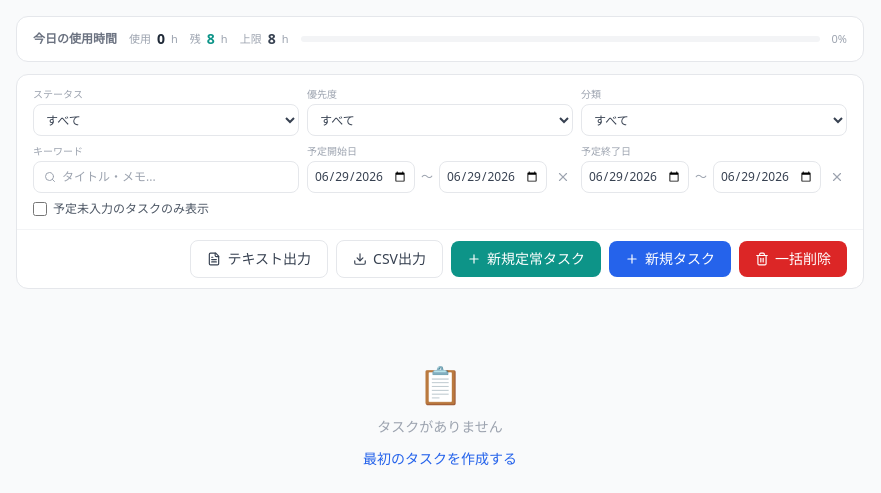
Test: Phase4 TaskListPage bulk selection DOM › TC-CB-272 TD095 TV095 TA019 R017 TaskListPage starts bulk delete with zero selected
This screenshot has width=881, height=493.
Click the button named "予定開始日フィルタをクリア": (563, 177) x1=553 y1=161 x2=573 y2=193
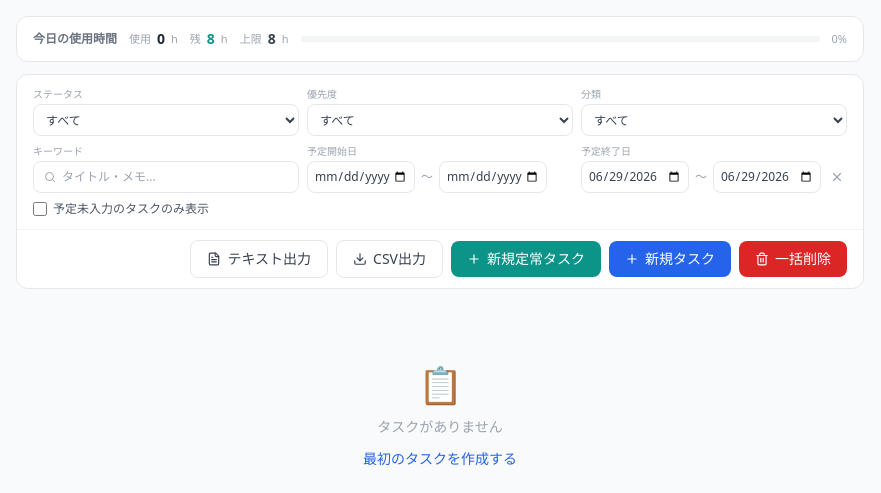
Click the button named "予定終了日フィルタをクリア": (837, 177) x1=827 y1=161 x2=847 y2=193
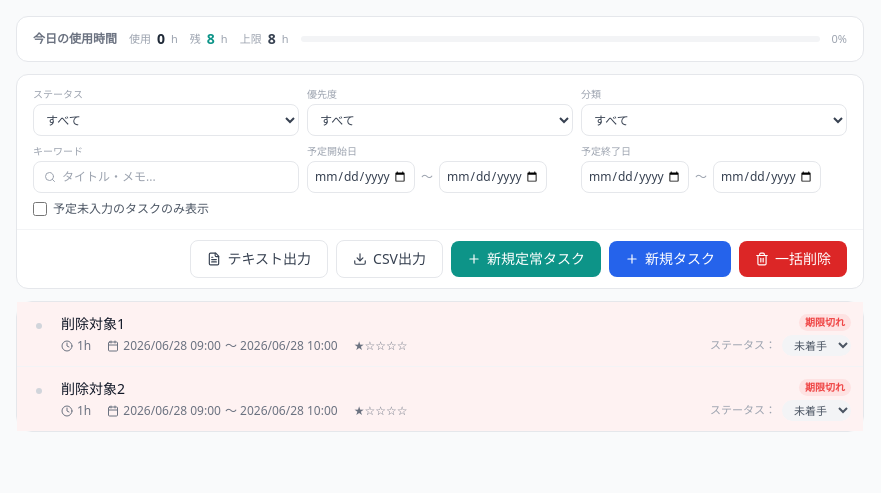
Click the button "一括削除": (793, 259) x1=739 y1=241 x2=847 y2=277
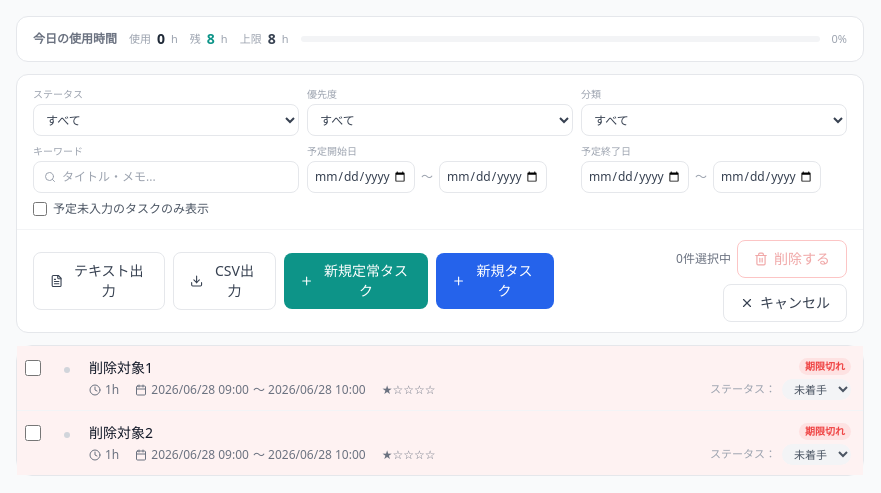
Expected: the text "0件選択中" is shown, x1=676 y1=251 x2=731 y2=267
Expected: the button "削除する" is disabled, x1=737 y1=240 x2=847 y2=278
